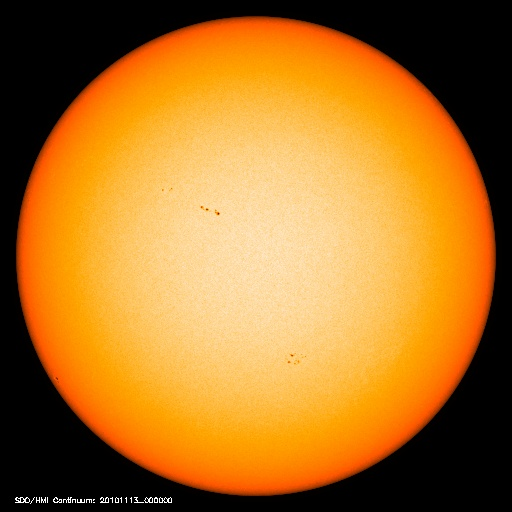sunspot: (156, 178, 228, 221), (276, 345, 315, 370)
